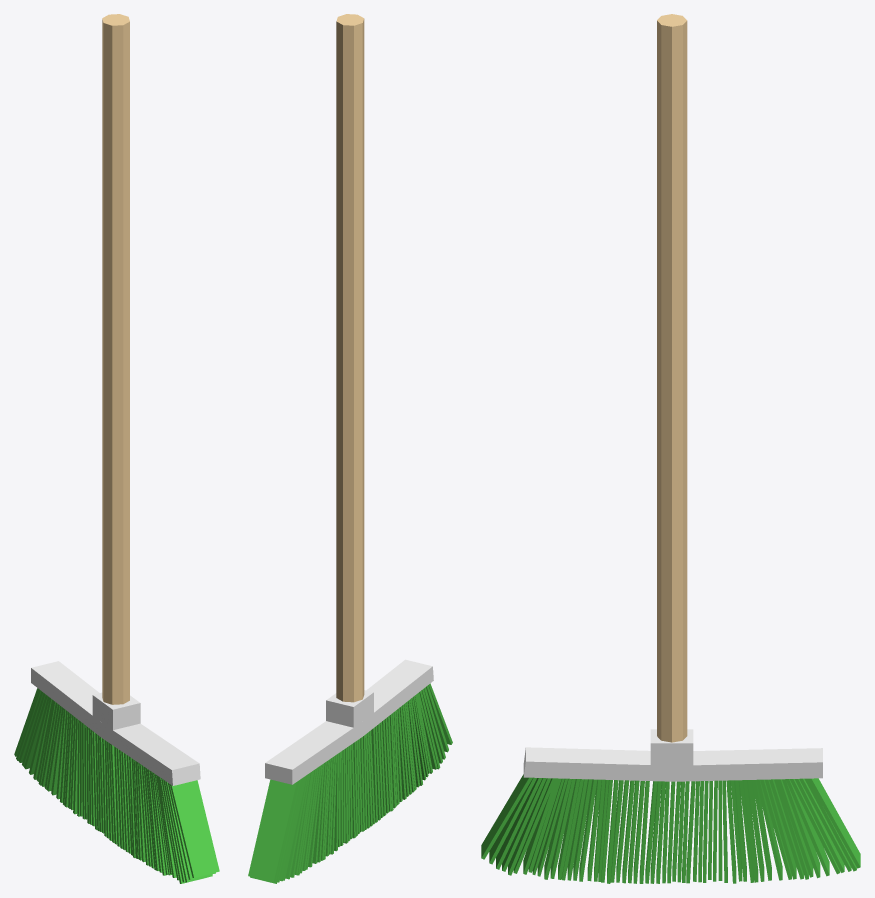
The model's file is Escoba_Verde.fbx.
3 renders of one model, left to right at view 1: azimuth 30°, elevation 25°; view 2: azimuth 150°, elevation 25°; view 3: azimuth 270°, elevation 25°, orthographic. The views are drawn at different scales.
Parts seen in each view (by area): view 1: Palo_Escoba.002, Base_escobetilla.002, Cerdas_Escobetilla.141, Base_2_escobetilla.002, Cerdas_Escobetilla.139; view 2: Palo_Escoba.002, Base_escobetilla.002, Cerdas_Escobetilla.128, Base_2_escobetilla.002; view 3: Palo_Escoba.002, Base_escobetilla.002, Base_2_escobetilla.002, Cerdas_Escobetilla.128, Cerdas_Escobetilla.141, Cerdas_Escobetilla.133.
Part boxes in pixels (x1,y1,x2,y2): Palo_Escoba.002: (102,14,129,704); Base_escobetilla.002: (31,661,200,785); Cerdas_Escobetilla.141: (169,780,219,877); Base_2_escobetilla.002: (92,692,140,730); Cerdas_Escobetilla.139: (165,781,212,882); Palo_Escoba.002: (336,14,364,702); Base_escobetilla.002: (265,659,433,784); Cerdas_Escobetilla.128: (248,779,298,882); Base_2_escobetilla.002: (326,690,373,727); Palo_Escoba.002: (657,14,687,742); Base_escobetilla.002: (523,747,822,781); Base_2_escobetilla.002: (650,729,693,765); Cerdas_Escobetilla.128: (808,778,860,868); Cerdas_Escobetilla.141: (481,774,532,859); Cerdas_Escobetilla.133: (785,779,829,876).
Size of the model in its own units: 200 by 5610 by 2251.
